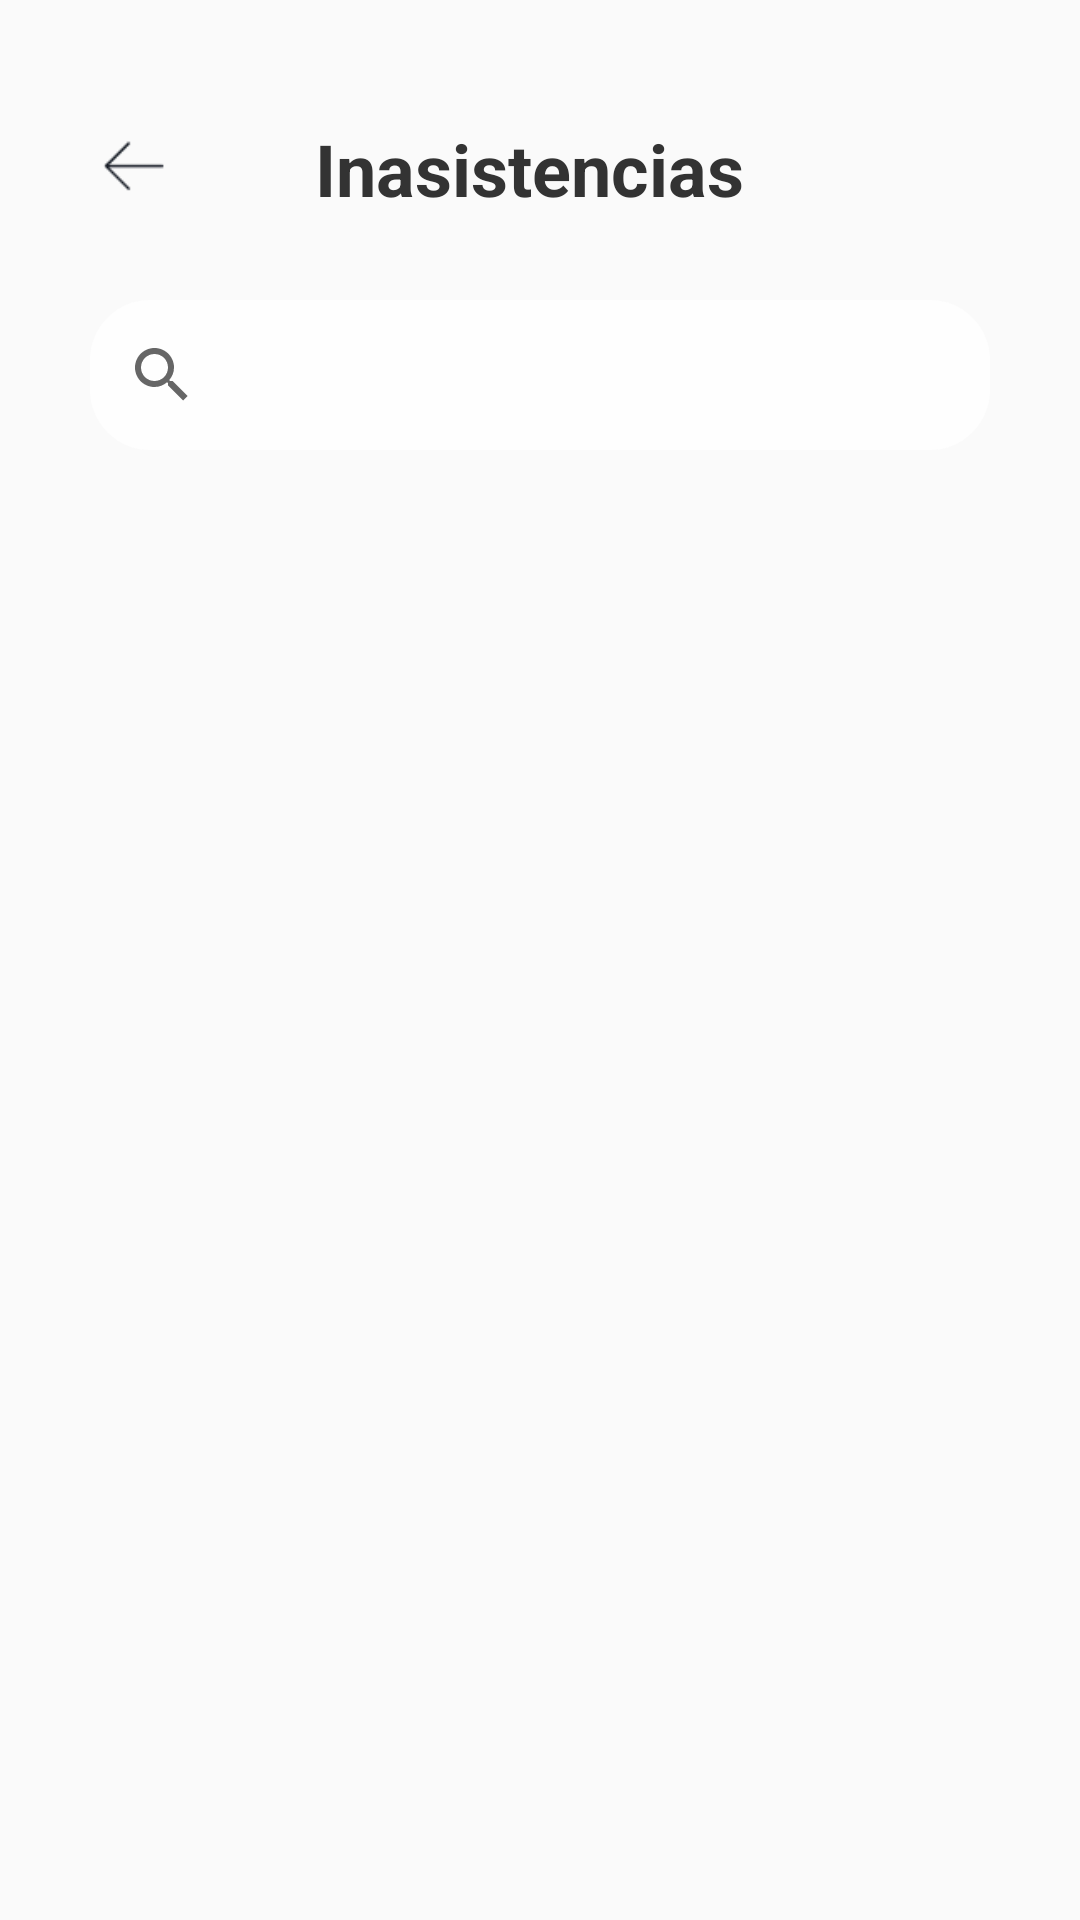

Where icons sit on this 1080 x 1920 app screen, as [left=x1, top=y1, right=x2, bottom=y2]:
arrow: [left=104, top=141, right=164, bottom=191]
